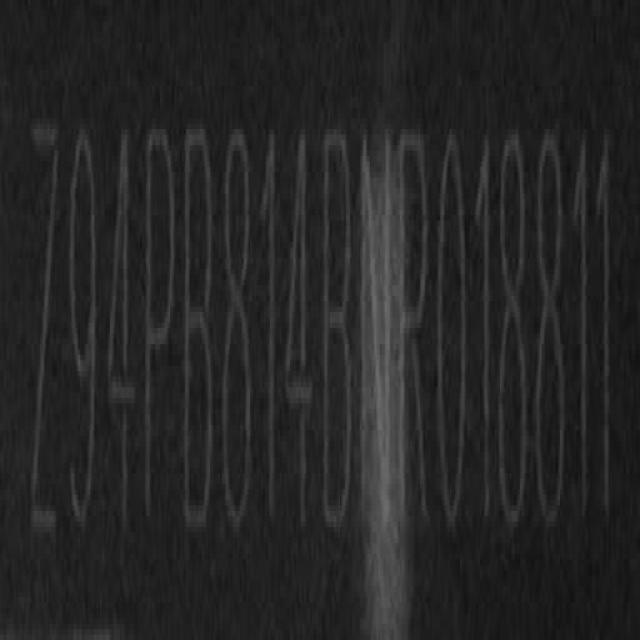0: (432, 129, 471, 538)
1: (594, 132, 624, 524), (573, 135, 598, 529), (260, 120, 280, 540), (476, 127, 492, 532)
4: (285, 122, 318, 539), (107, 124, 140, 541)
8: (219, 123, 255, 541), (494, 131, 530, 536), (534, 126, 570, 530)
9: (65, 116, 101, 543)
B: (319, 122, 359, 537), (181, 119, 218, 542)
N: (359, 120, 394, 540)
P: (139, 120, 177, 543)
R: (396, 126, 432, 538)
Z: (28, 113, 60, 544)
